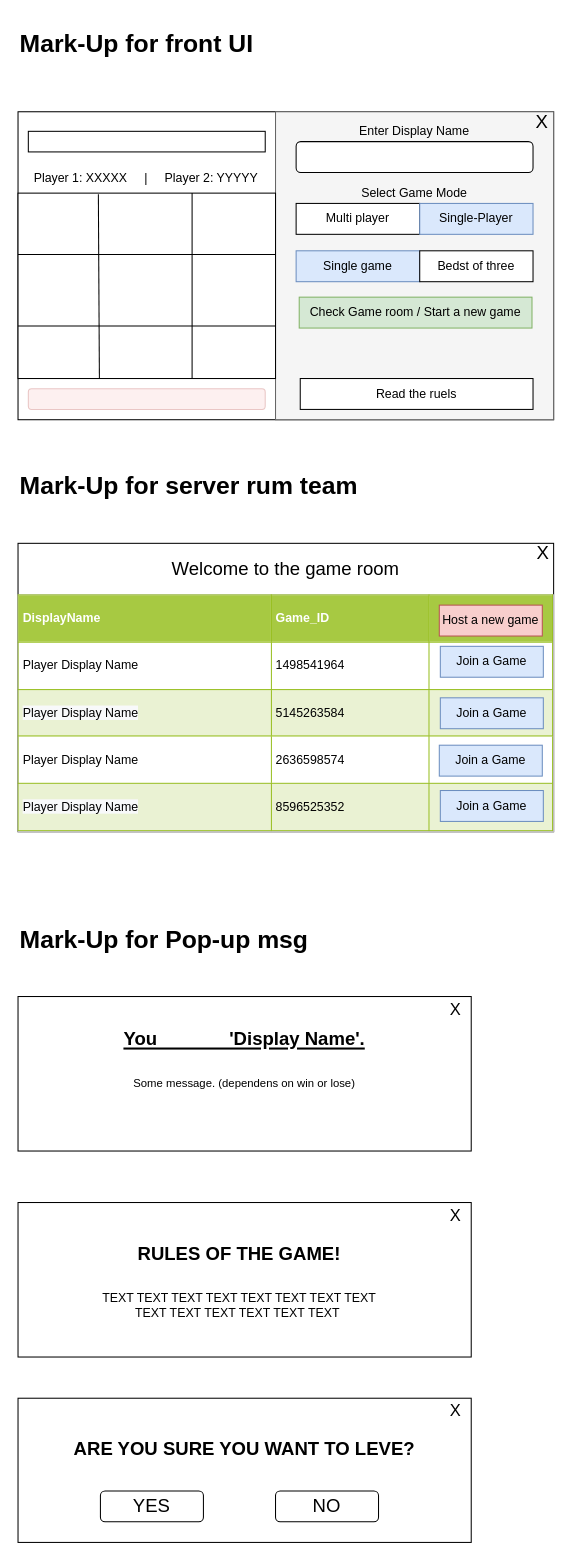
Some shapes in this 572 by 1560 pixel diagram are drawn without their labels. The shapes that lost their labels are listed below. From the top down, each one's centre as x and y in pixels, then its label:
At pixel 146 141: "Your Score: Win: xx | Tie: xx | Lose: xx".
At pixel 414 157: "SuperMandela".
At pixel 146 398: "You can always give up like a chiken".
